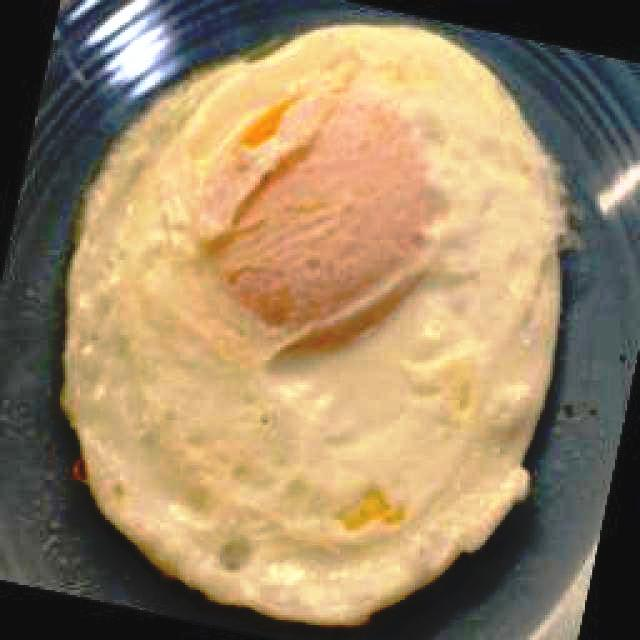fried_eggs: (64, 26, 564, 625)
